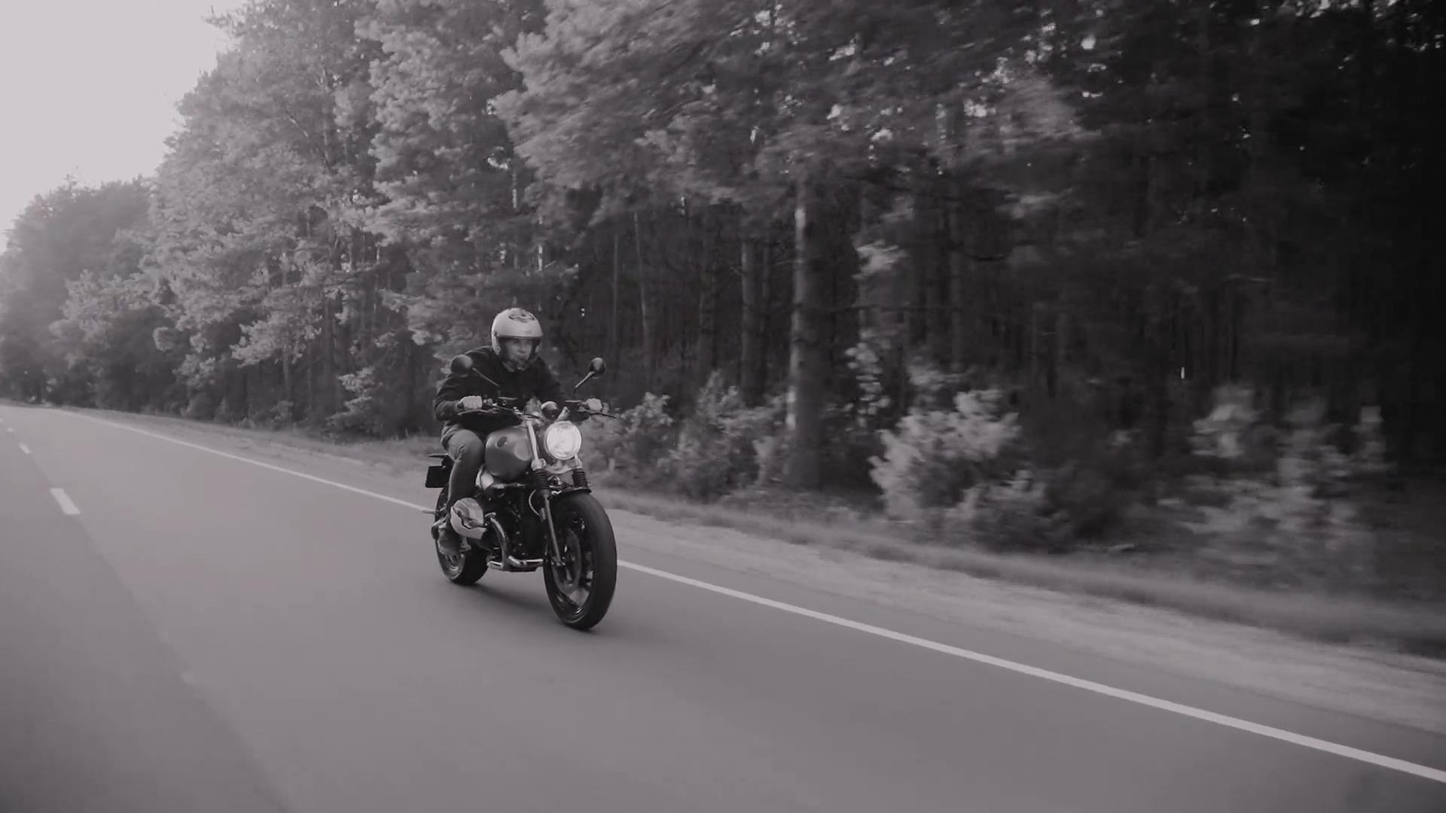driver: (422, 306, 618, 630)
helmet: (491, 307, 543, 372)
